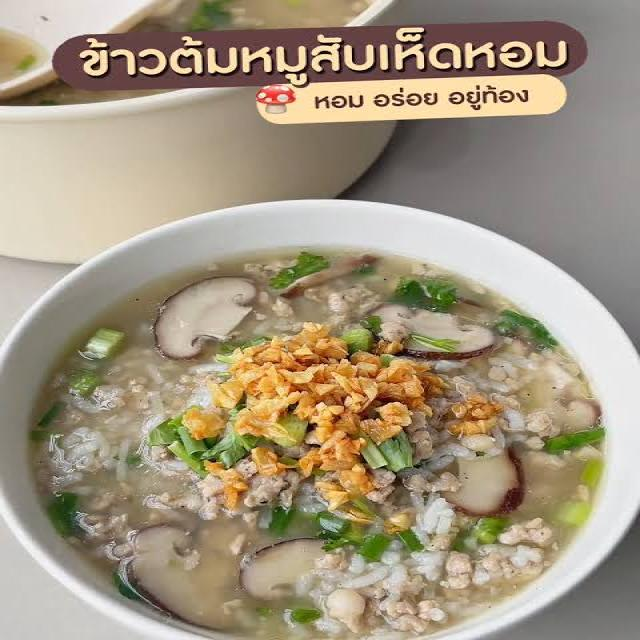carb: (118, 346, 169, 423)
meat: (472, 351, 592, 445)
rice porridge: (44, 266, 620, 638)
vegetable: (360, 439, 431, 483)
